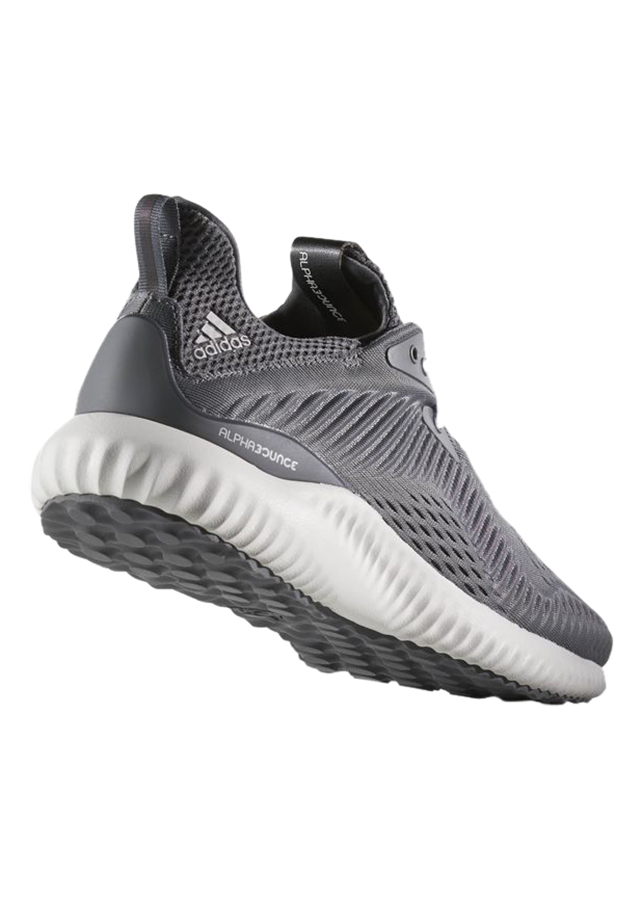Adidas: (191, 303, 257, 365)
